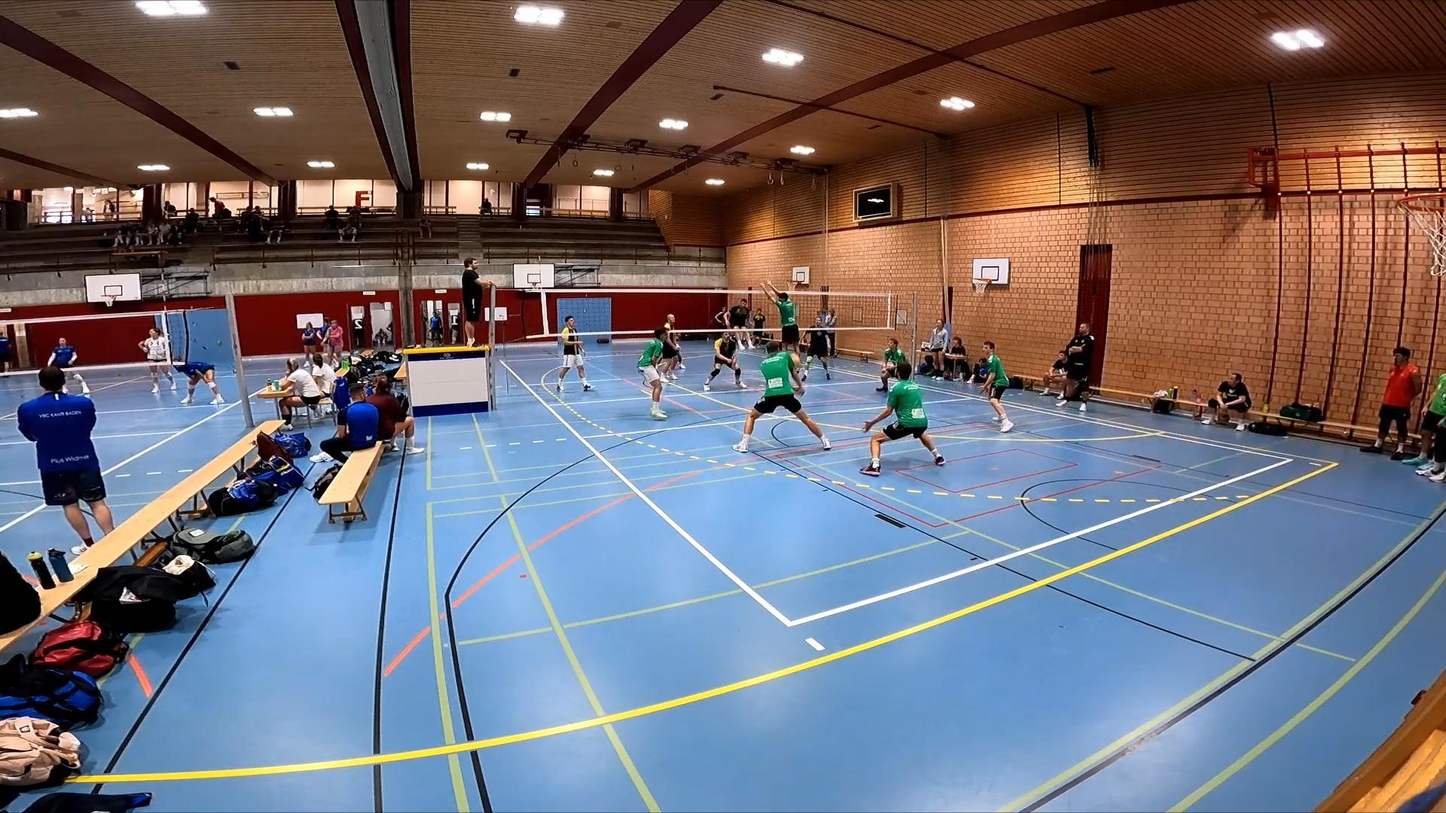attacco: (726, 286, 753, 351)
difesa: (739, 337, 835, 448)
muro: (759, 276, 807, 376)
